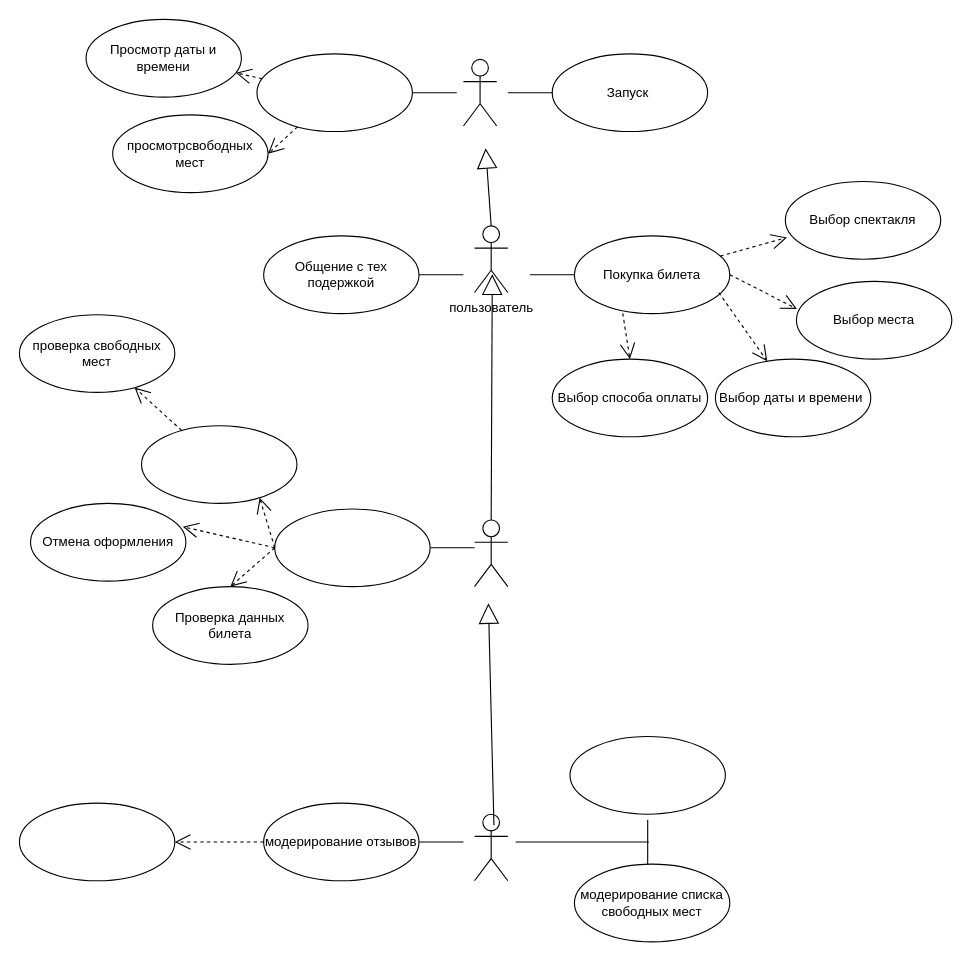
This 971x961 diagram has some shape labels left out. The shapes that lost their labels are listed below. From the top down, each one's centre as x and y in pixels, then its label:
At (x=334, y=92): "просмотр списка спектаклей".
At (x=479, y=92): "Посетитель".
At (x=218, y=464): "Оформление билета".
At (x=352, y=547): "Общение с пользователем".
At (x=490, y=553): "Менеджер".
At (x=647, y=774): "модерирование списка спектаклей".
At (x=96, y=841): "проверка отзывов о спектакле".
At (x=490, y=847): "Администратор".
